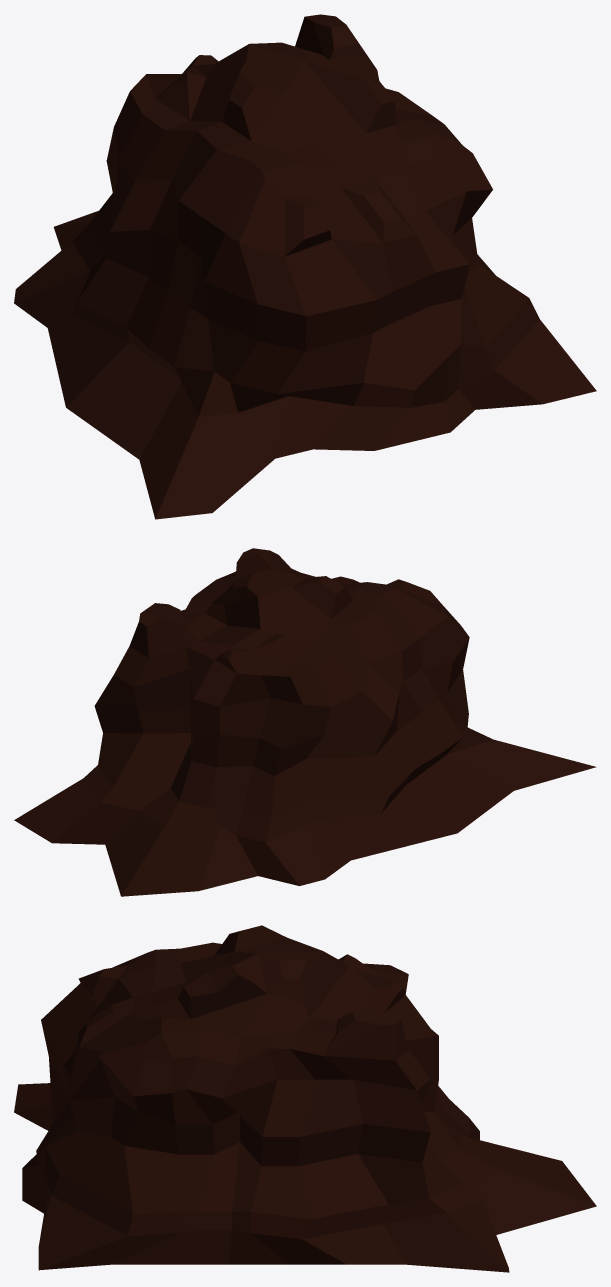
The model's file is CoffeeGrounds.fbx.
The picture shows the model from 3 angles, top to bottom: view 1: azimuth 30°, elevation 25°; view 2: azimuth 150°, elevation 25°; view 3: azimuth 270°, elevation 25°; orthographic projection. The views are drawn at different scales.
Visible parts, largest first — view 1: CoffeeWall; view 2: CoffeeWall; view 3: CoffeeWall.
Part boxes in pixels (box(x1,y1,x2,y2)): CoffeeWall: box(14, 14, 596, 519); CoffeeWall: box(14, 548, 596, 896); CoffeeWall: box(14, 925, 596, 1272).
Bounding box in the file's own units: 848 × 508 × 1020.
